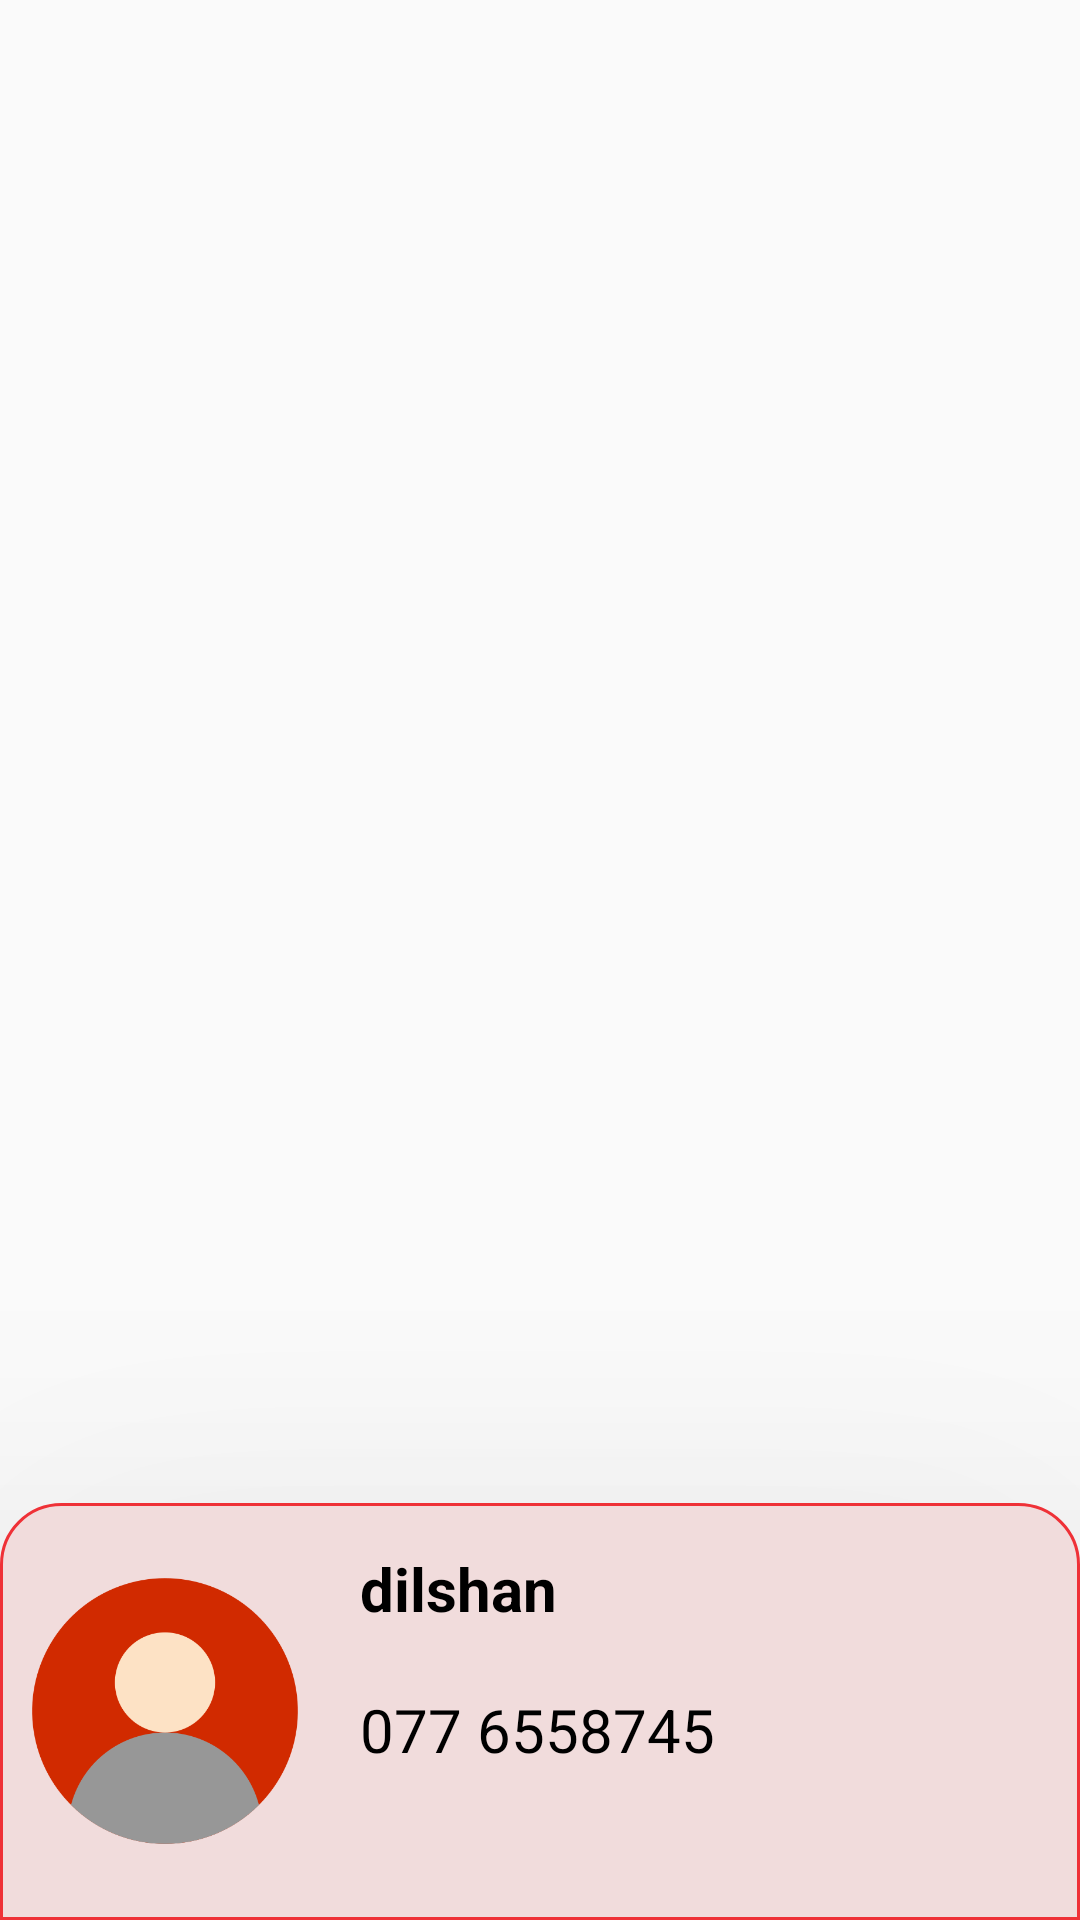

Point at icon controls on the screen. Image size 1080*1920, points as [x,y].
customer driver prfile: [165,1711]
